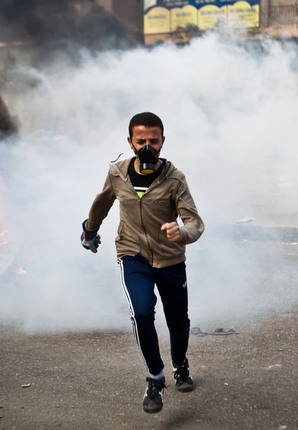Person: (77, 111, 210, 417)
